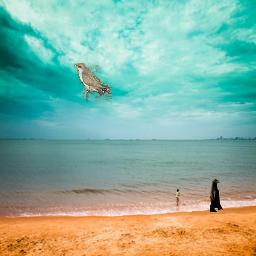Crow: (210, 179, 223, 212)
Cuckoo: (74, 63, 112, 103)
